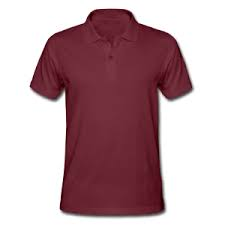C_polo shirt: (28, 15, 198, 220)
